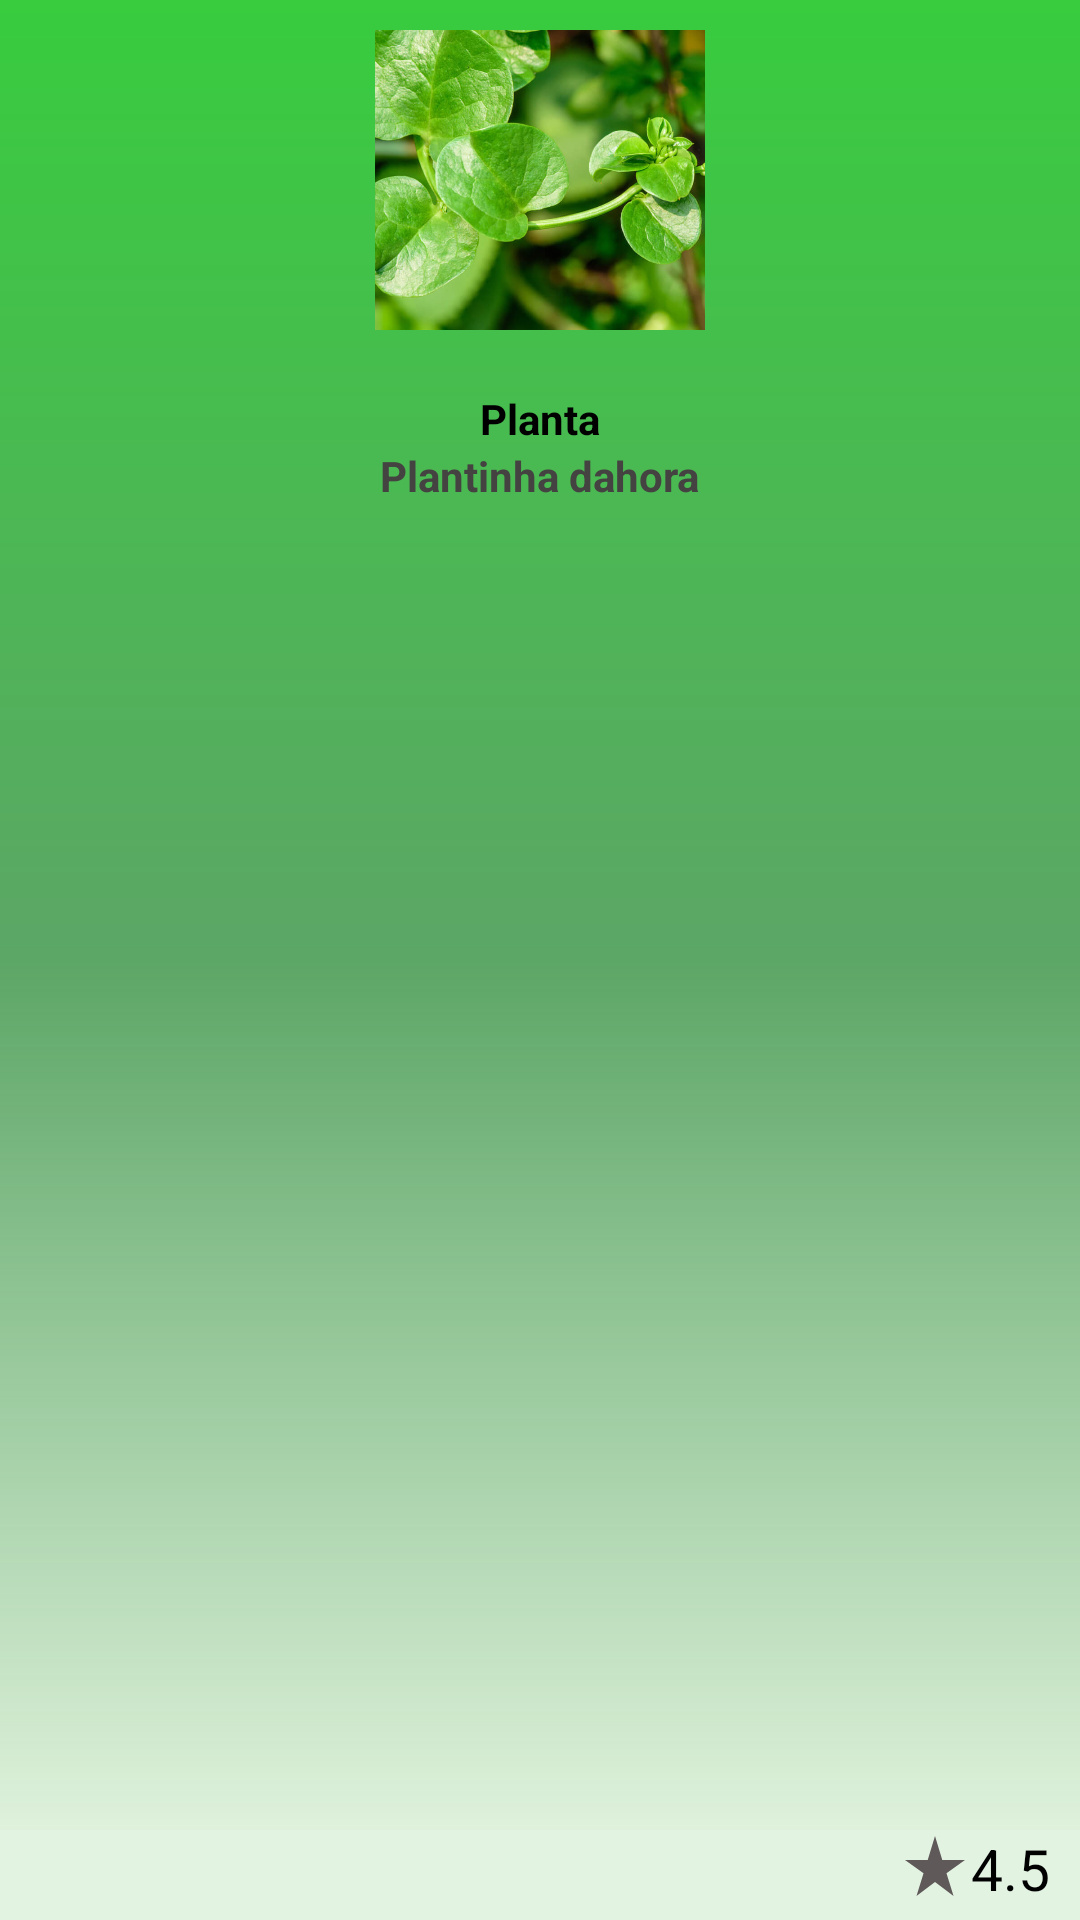

Locate icon controls on the screen. Image size 1080px x 1920px, boxes as (x1, y1, x2, y2).
star rate: (905, 1837, 965, 1896)
